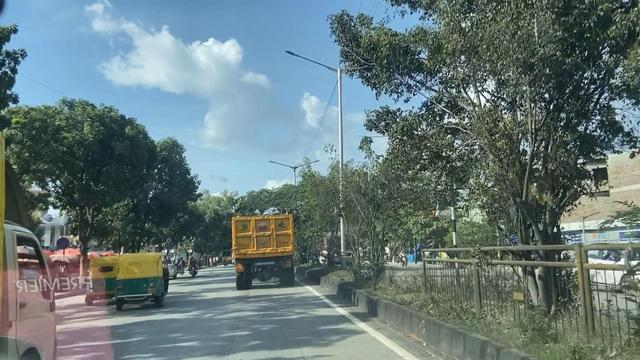HMV: (223, 212, 297, 300)
LMV: (118, 247, 169, 310), (78, 255, 119, 295)
